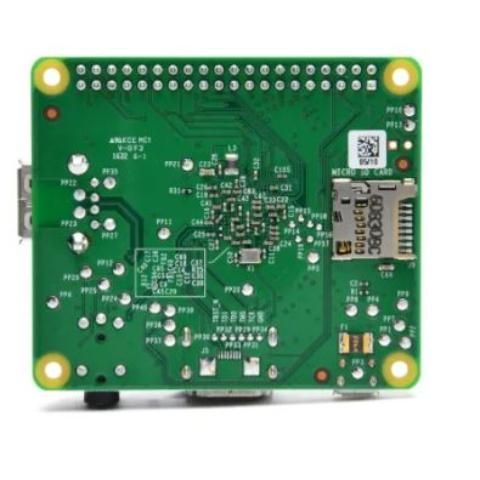Raspberry-Pi-1-Model-A-: (14, 48, 438, 430)
